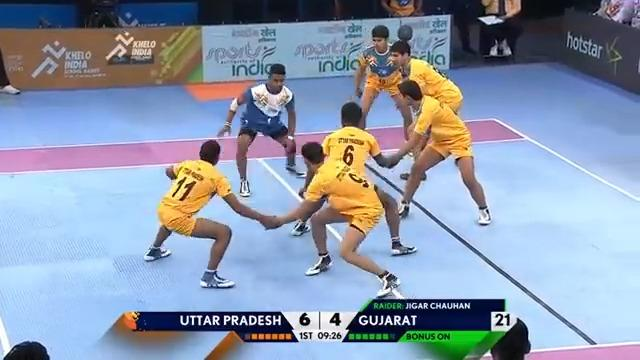Player: (262, 101, 417, 299), (143, 138, 281, 289), (290, 140, 418, 257), (395, 79, 492, 225), (386, 39, 463, 180), (353, 24, 414, 141)
Raider: (216, 62, 306, 197)
referee: (420, 0, 477, 55), (478, 0, 523, 61), (489, 317, 531, 359), (82, 0, 120, 28), (0, 47, 20, 94), (2, 340, 50, 359)
